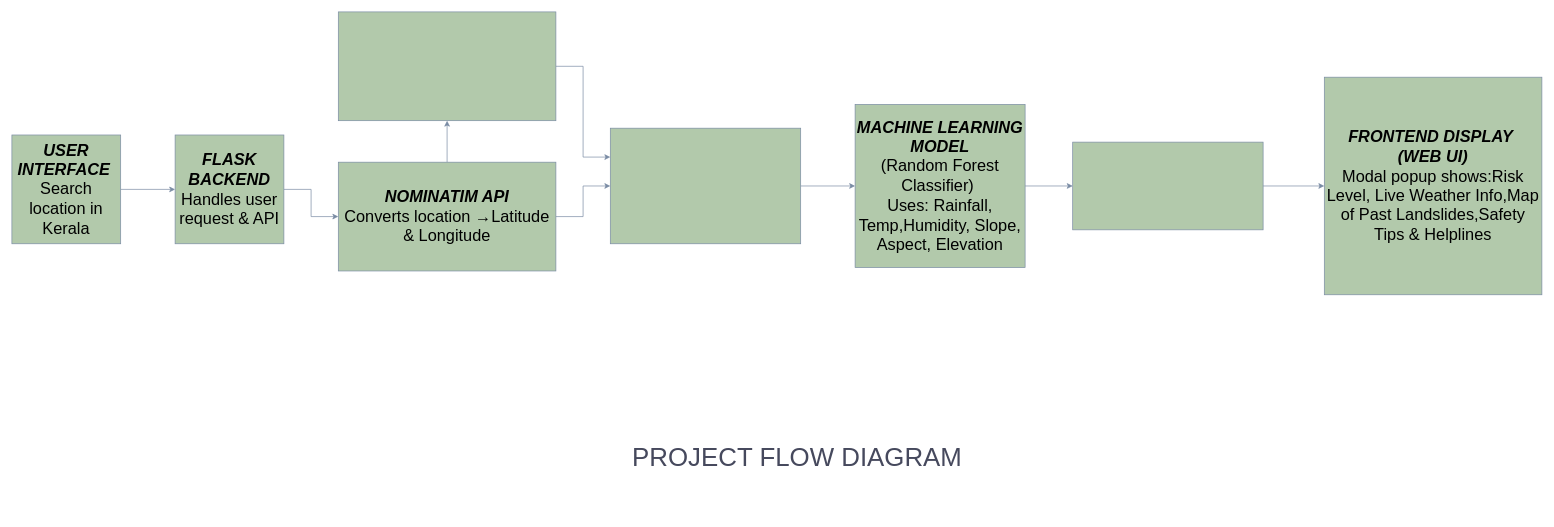
Image size: 1554x527. Some labels were removed from this diagram. The shapes that lost their labels are listed below. From the top down, each one's centre as x and y in pixels, then its label:
the point at 447,66: WEATHERAPI Fetches Rainfall, Temp,Humidity (real-time)
the point at 705,186: EXTRACTED TERRAIN DATASET (Elevation, Slope, Aspect)
the point at 1167,185: RISK PREDICTION RESULT (Safe / Low / Medium / High)
